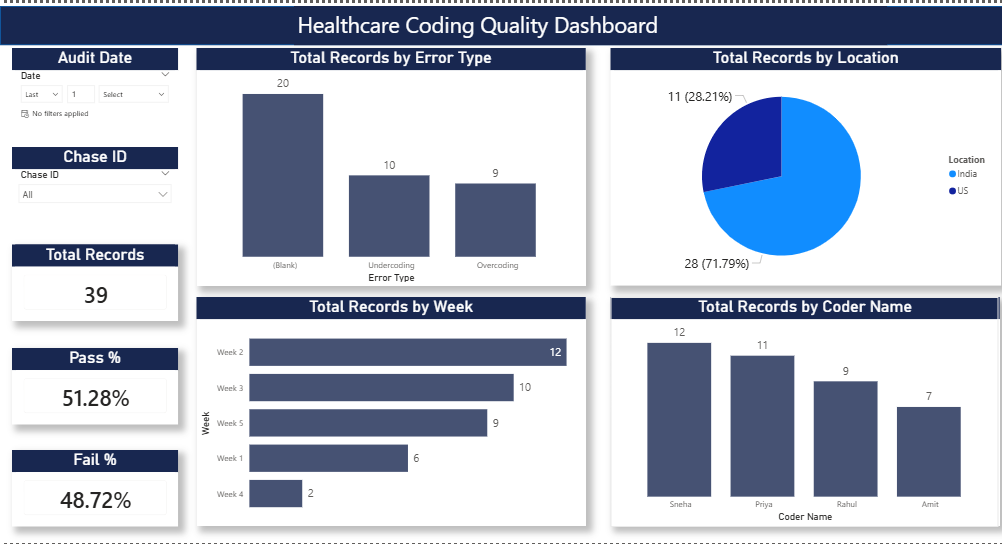

Layout of this report page (visuals, bound fields, positions):
{"tool":"powerbi","page":{"name":"Overview","canvas":[1500,800],"ordinal":0},"visuals":[{"type":"shape","box":[0,3.7,1500,58],"z":0},{"type":"cardVisual","title":"Total Records","fields":{"Data":["d_Measures.Total Records"]},"box":[17.3,358.7,246.2,113.5],"z":1000},{"type":"cardVisual","title":"Pass %","fields":{"Data":["d_Measures.Pass %"]},"box":[17.3,510.1,246.2,113.5],"z":2000},{"type":"cardVisual","title":"Fail %","fields":{"Data":["d_Measures.Fail %"]},"box":[17.3,661.5,246.2,113.5],"z":3000},{"type":"columnChart","fields":{"Category":["f_Data.Error Type"],"Y":["d_Measures.Total Records"]},"box":[290.4,67.3,576.9,351.9],"z":4000},{"type":"barChart","fields":{"Category":["d_calendar.Week"],"Y":["d_Measures.Total Records"]},"box":[290.4,436.5,576.9,338.5],"z":5000},{"type":"pieChart","fields":{"Category":["f_Data.Location"],"Y":["d_Measures.Total Records"]},"box":[903.8,67.3,578.8,351.9],"z":6000},{"type":"columnChart","fields":{"Y":["d_Measures.Total Records"],"Category":["f_Data.Coder Name"]},"box":[903.8,436.5,576.9,338.5],"z":7000},{"type":"slicer","title":"Audit Date","fields":{"Values":["d_calendar.Date"]},"box":[17.3,67.3,246.2,107.7],"z":8000},{"type":"slicer","title":"Chase ID","fields":{"Values":["f_Data.Chase ID"]},"box":[17.3,213,246.2,107.7],"z":9000},{"type":"textbox","box":[436.5,3.7,878.8,57.7],"z":10000}]}

Visuals, with their boxes in screenshot pixels (x1, y1, x2, y2), scaled from the page's 1500x800 canvas onto the 1002x544 screenshot:
shape: box(0, 3, 1001, 42)
"Total Records" cardVisual: box(12, 244, 176, 321)
"Pass %" cardVisual: box(12, 347, 176, 424)
"Fail %" cardVisual: box(12, 450, 176, 527)
columnChart - f_Data.Error Type x d_Measures.Total Records: box(194, 46, 579, 285)
barChart - d_calendar.Week x d_Measures.Total Records: box(194, 297, 579, 527)
pieChart - f_Data.Location x d_Measures.Total Records: box(604, 46, 990, 285)
columnChart - d_Measures.Total Records x f_Data.Coder Name: box(604, 297, 989, 527)
"Audit Date" slicer: box(12, 46, 176, 119)
"Chase ID" slicer: box(12, 145, 176, 218)
textbox: box(292, 3, 879, 42)
